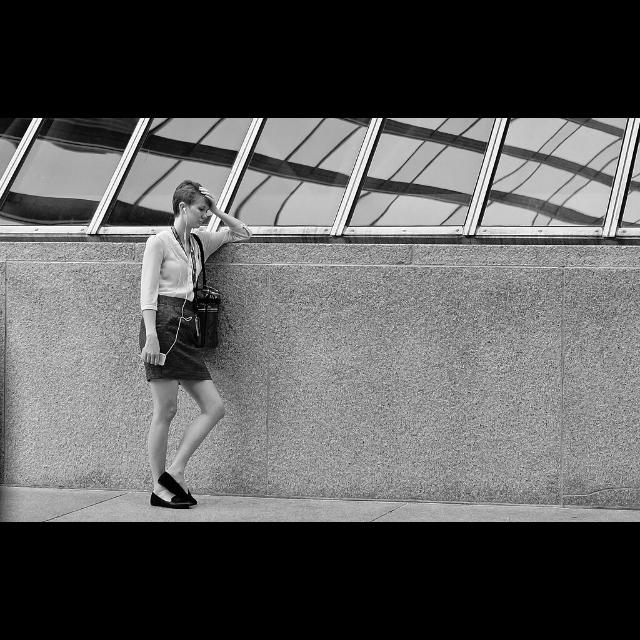bottom: (140, 304, 210, 380)
shoes: (148, 478, 200, 512)
top: (143, 228, 211, 298)
